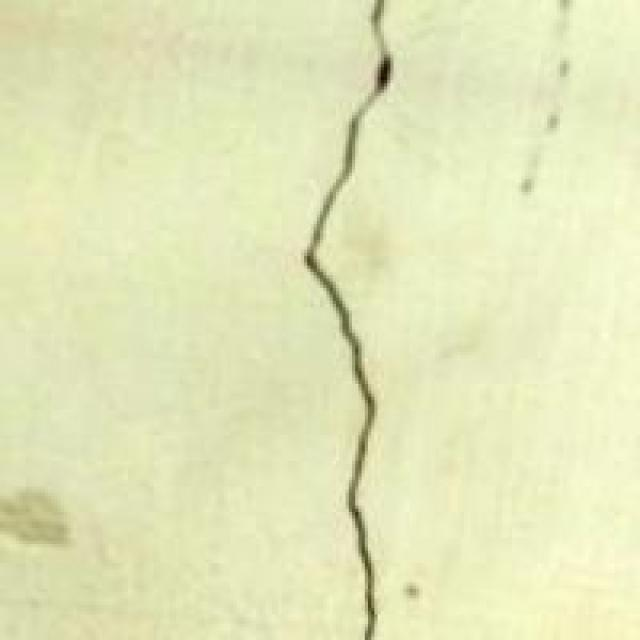Crack: (285, 16, 486, 637)
